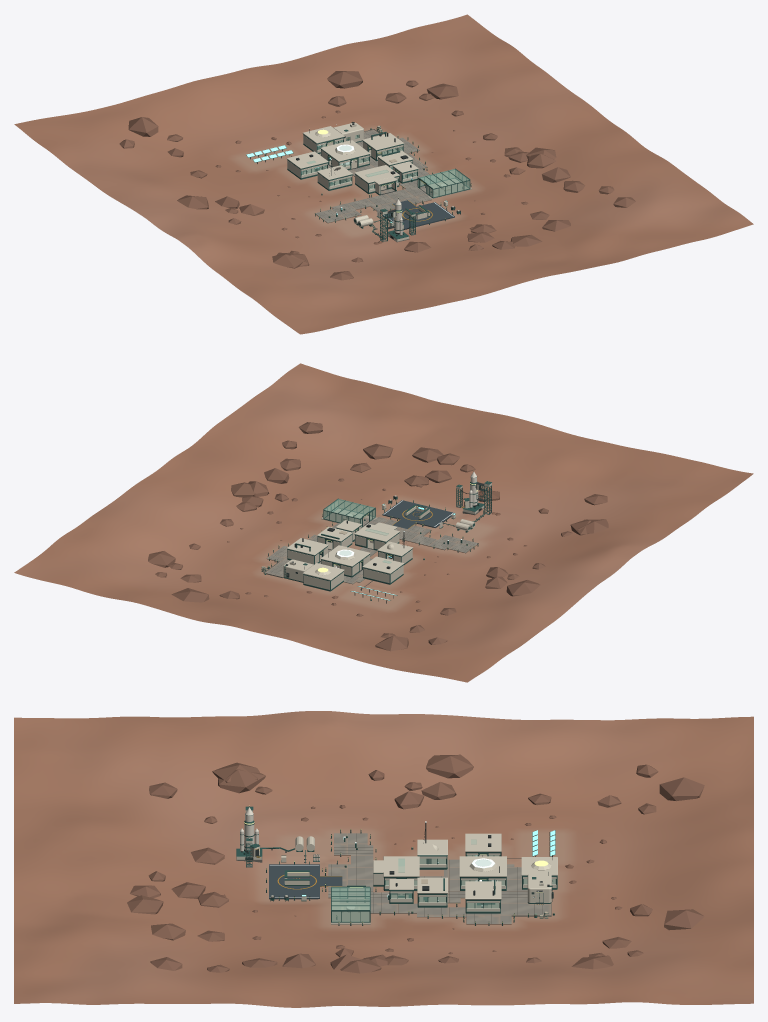
File: colony-v006.glb
The picture shows the model from 3 angles, top to bottom: view 1: azimuth 30°, elevation 25°; view 2: azimuth 150°, elevation 25°; view 3: azimuth 270°, elevation 25°; orthographic projection. The views are drawn at different scales.
Visible parts, largest first — view 1: TER_Solo, ARQ_Piso_Externo, ARQ_Piso_Modulos, ARQ_Piso_Deck, TET_Pavilhao; view 2: TER_Solo, ARQ_Piso_Externo, ARQ_Piso_Deck, TET_Pavilhao; view 3: TER_Solo, ARQ_Piso_Externo, ARQ_Piso_Passarelas, ARQ_Piso_Deck, ARQ_Piso_Modulos, TET_Pavilhao, TER_Rocha.043, TER_Rocha.020, TET_Reuniao, TET_Hub, TET_Arquivo, TER_Rocha.052 (+7 smaller).
Boxes of the visible parts, bbox=[...] form: TER_Solo: bbox=[14, 14, 753, 334]; ARQ_Piso_Externo: bbox=[314, 137, 437, 223]; ARQ_Piso_Modulos: bbox=[302, 142, 471, 198]; ARQ_Piso_Deck: bbox=[382, 200, 454, 229]; TET_Pavilhao: bbox=[418, 168, 470, 188]; TER_Solo: bbox=[14, 363, 753, 682]; ARQ_Piso_Externo: bbox=[266, 517, 478, 561]; ARQ_Piso_Deck: bbox=[382, 500, 453, 528]; TET_Pavilhao: bbox=[323, 498, 375, 518]; TER_Solo: bbox=[14, 711, 753, 1007]; ARQ_Piso_Externo: bbox=[328, 833, 511, 924]; ARQ_Piso_Passarelas: bbox=[367, 859, 527, 903]; ARQ_Piso_Deck: bbox=[269, 864, 342, 899]; ARQ_Piso_Modulos: bbox=[331, 855, 556, 924]; TET_Pavilhao: bbox=[331, 886, 369, 910]; TER_Rocha.043: bbox=[426, 754, 473, 778]; TER_Rocha.020: bbox=[659, 777, 704, 800]; TET_Reuniao: bbox=[383, 856, 419, 877]; TET_Hub: bbox=[459, 856, 506, 877]; TET_Arquivo: bbox=[465, 833, 501, 852]; TER_Rocha.052: bbox=[218, 769, 265, 793].
Bounding box in the file's own units: 120 × 12.72 × 131.
